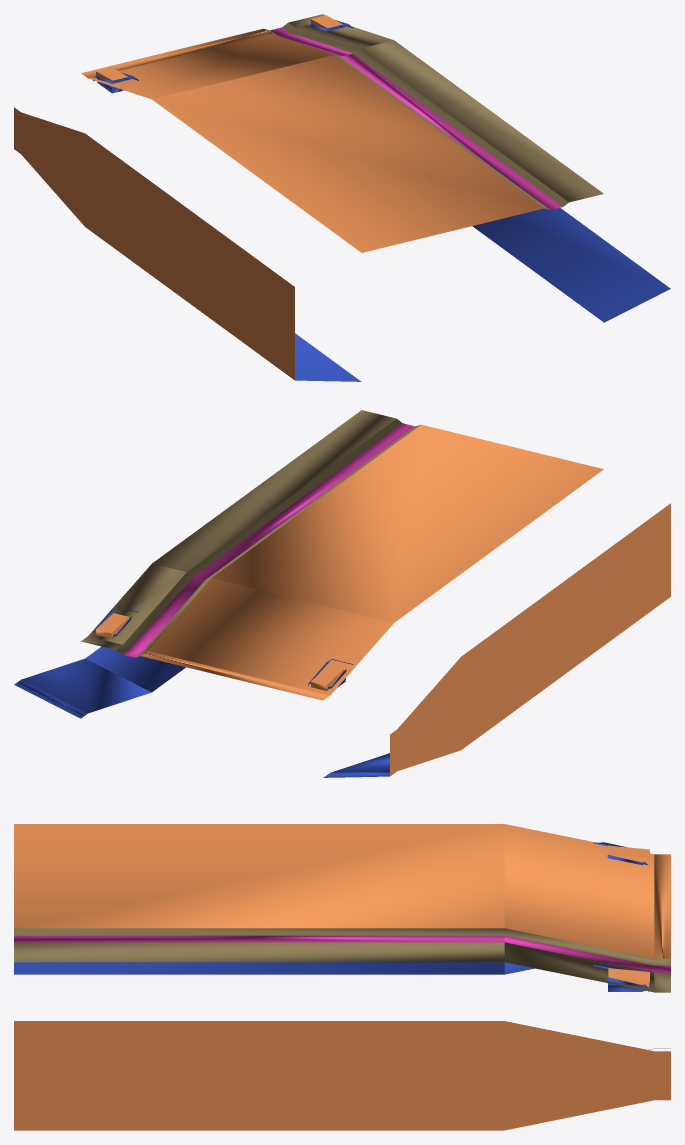
Rendered from docking_lobby_ext_b_lod4.glb.
3 renders of one model, top to bottom at view 1: azimuth 30°, elevation 25°; view 2: azimuth 150°, elevation 25°; view 3: azimuth 270°, elevation 25°, orthographic. The views are drawn at different scales.
Bounding box in the file's own units: 61.06 × 20.01 × 79.
